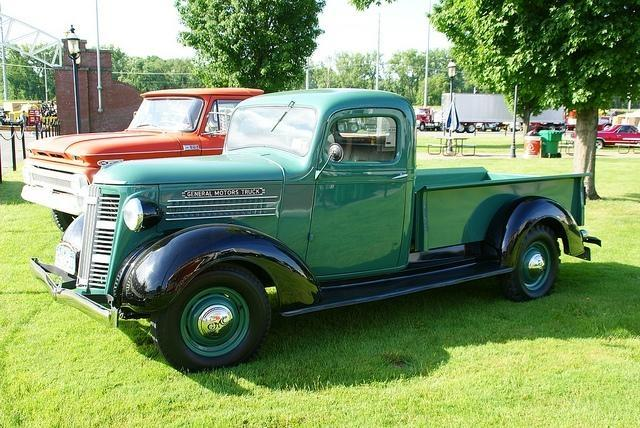car: (571, 124, 640, 149), (596, 116, 612, 130)
truck: (56, 88, 602, 377), (18, 87, 270, 233), (412, 90, 516, 133)
